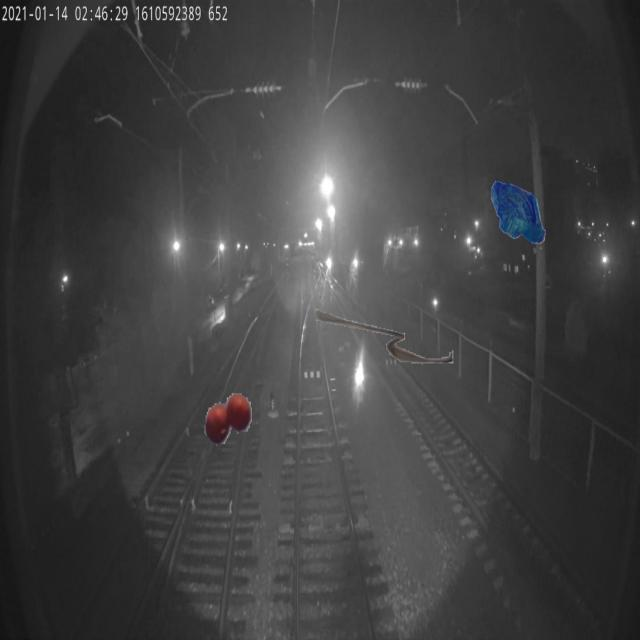balloon: (203, 383, 253, 448)
floating object: (314, 304, 454, 368)
plastic bag: (490, 180, 546, 243)
